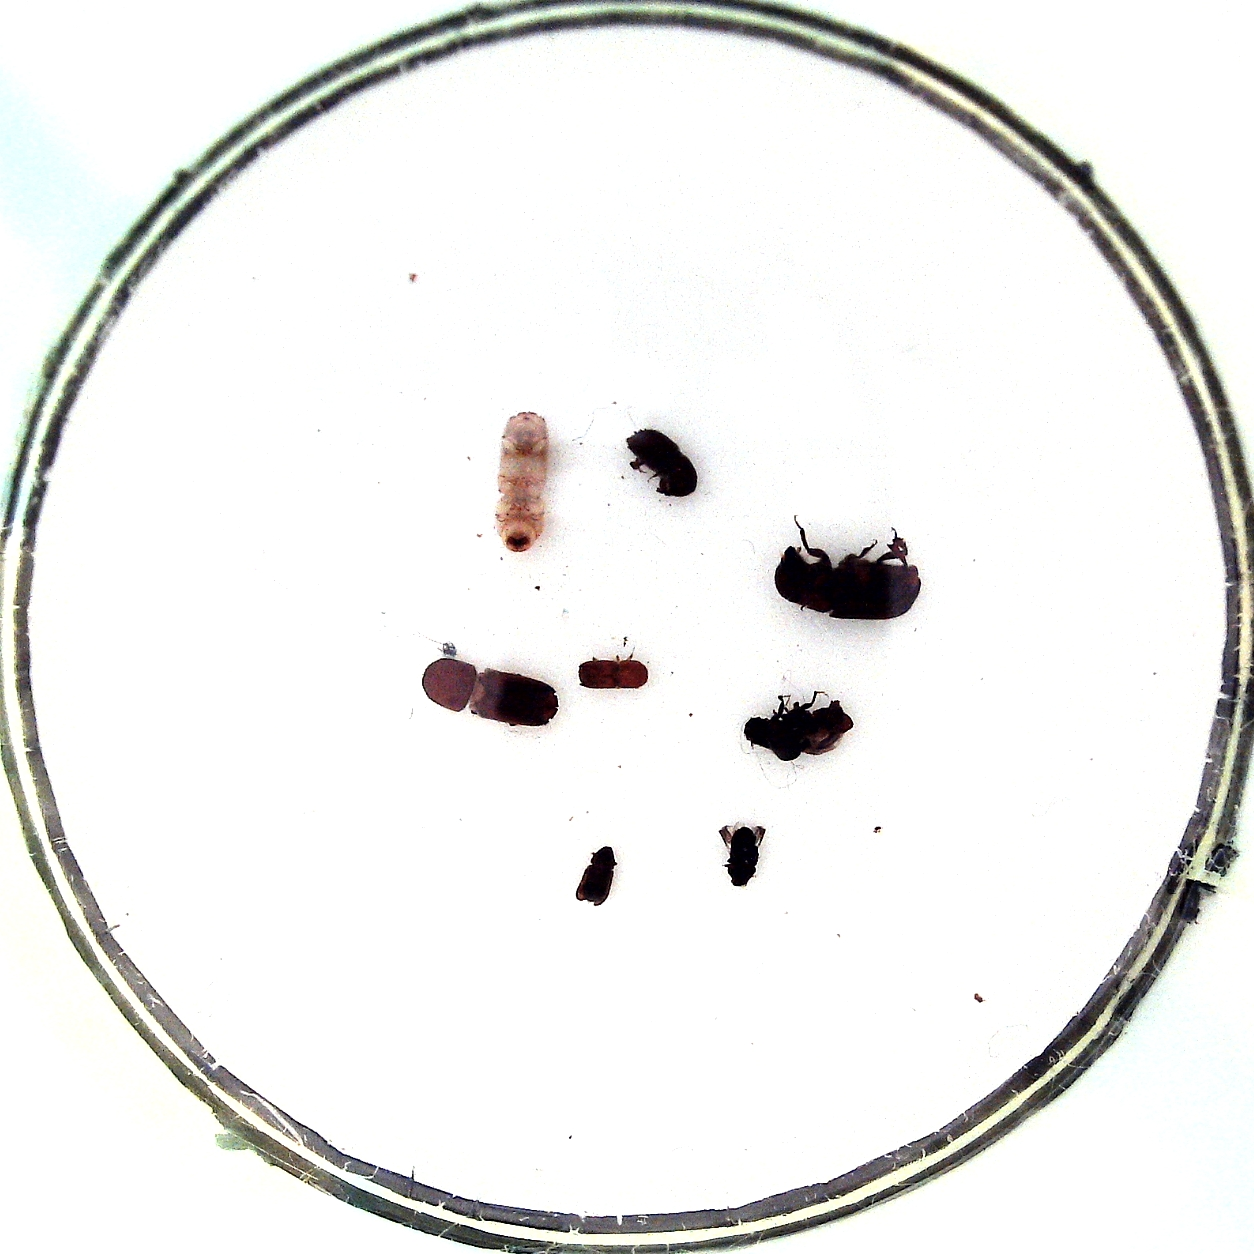Boerner: (421, 658, 558, 726), (495, 412, 547, 551)
Leconte: (774, 545, 920, 620)
acuminatus: (729, 825, 758, 887)
armandi: (743, 700, 852, 760)
coleoptera: (576, 846, 616, 906), (576, 658, 649, 689)
linnaeus: (625, 429, 698, 497)
